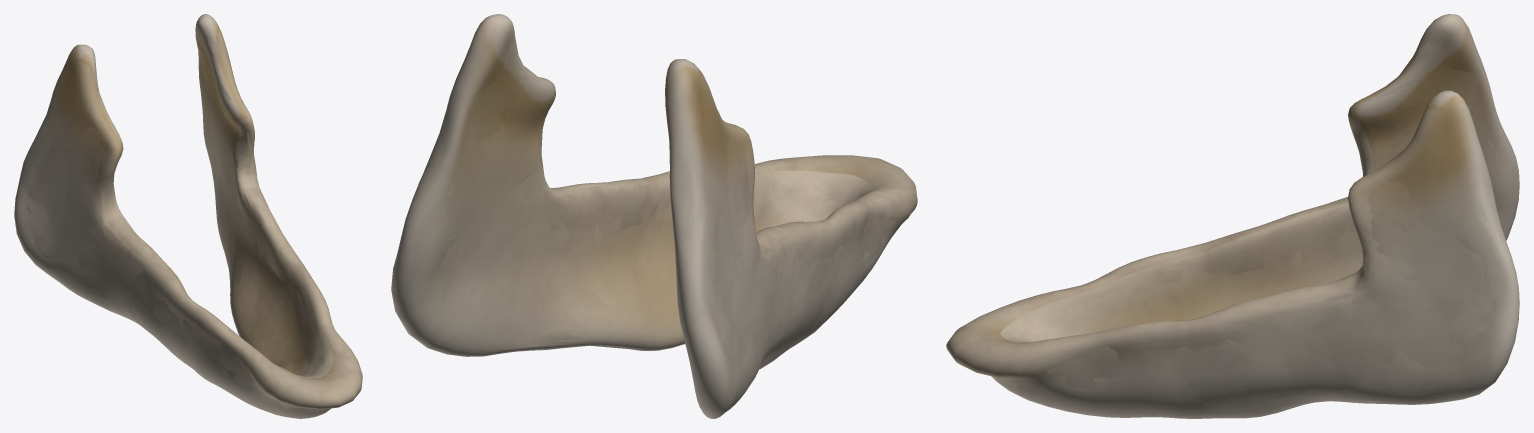
File: Mandibula.fbx
3 renders of one model, left to right at view 1: azimuth 30°, elevation 25°; view 2: azimuth 150°, elevation 25°; view 3: azimuth 270°, elevation 25°, orthographic. The views are drawn at different scales.
Parts seen in each view (by area): view 1: Mandibula, Mandibula low; view 2: Mandibula, Mandibula low; view 3: Mandibula, Mandibula low.
Part boxes in pixels (x1,y1,x2,y2): Mandibula: [14, 14, 362, 418]; Mandibula low: [21, 36, 344, 411]; Mandibula: [391, 14, 917, 418]; Mandibula low: [422, 36, 900, 406]; Mandibula: [946, 14, 1519, 418]; Mandibula low: [989, 40, 1506, 417].
Size of the model in its own units: 10.18 by 12.43 by 18.05.
Materials: 1 (1 with a texture image).
